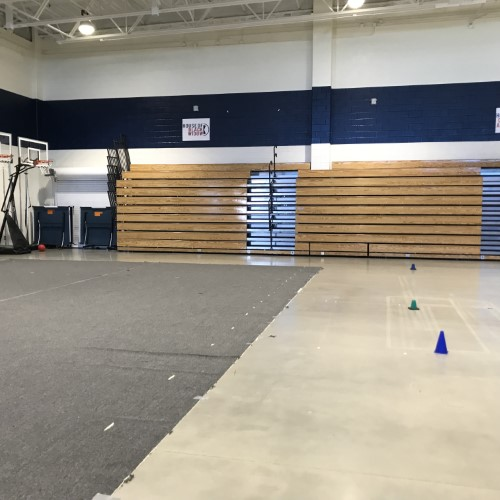red: (37, 243, 46, 251)
